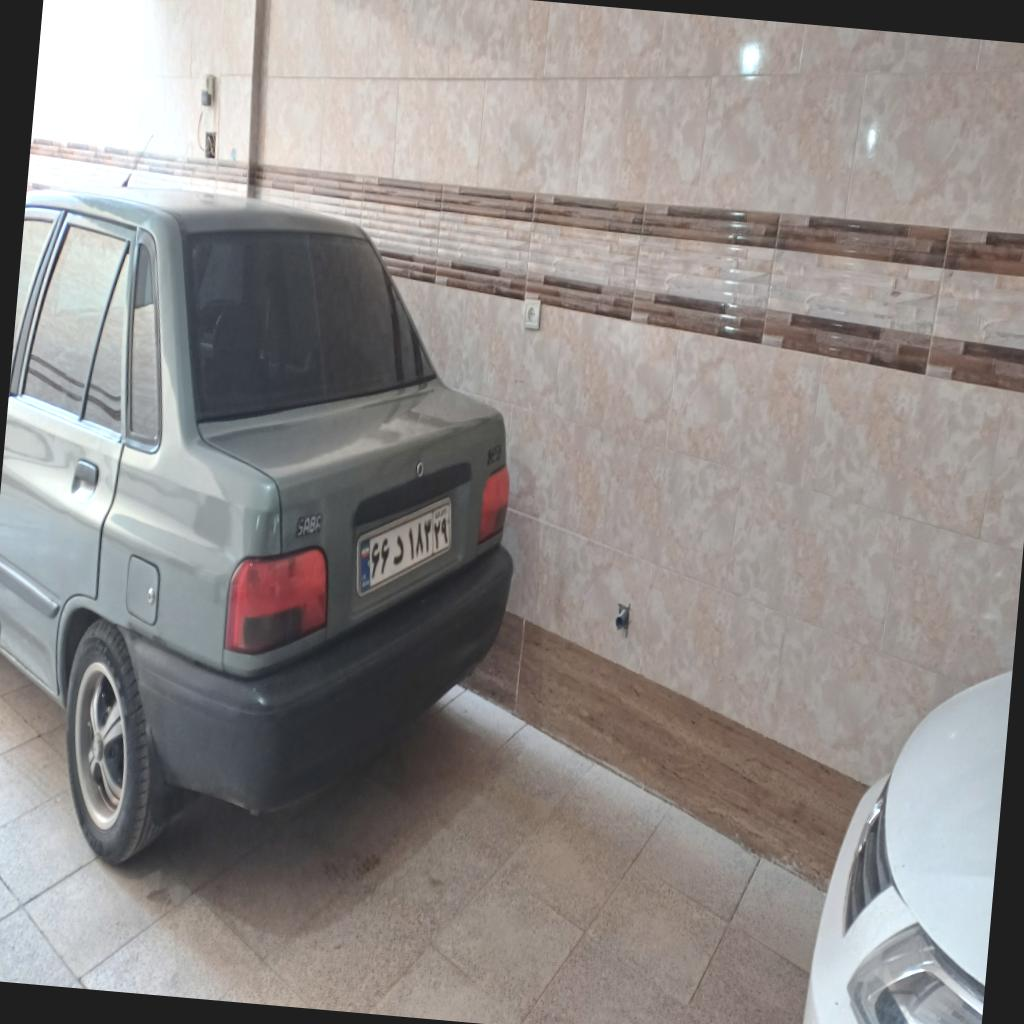Plates: (352, 488, 456, 602)
